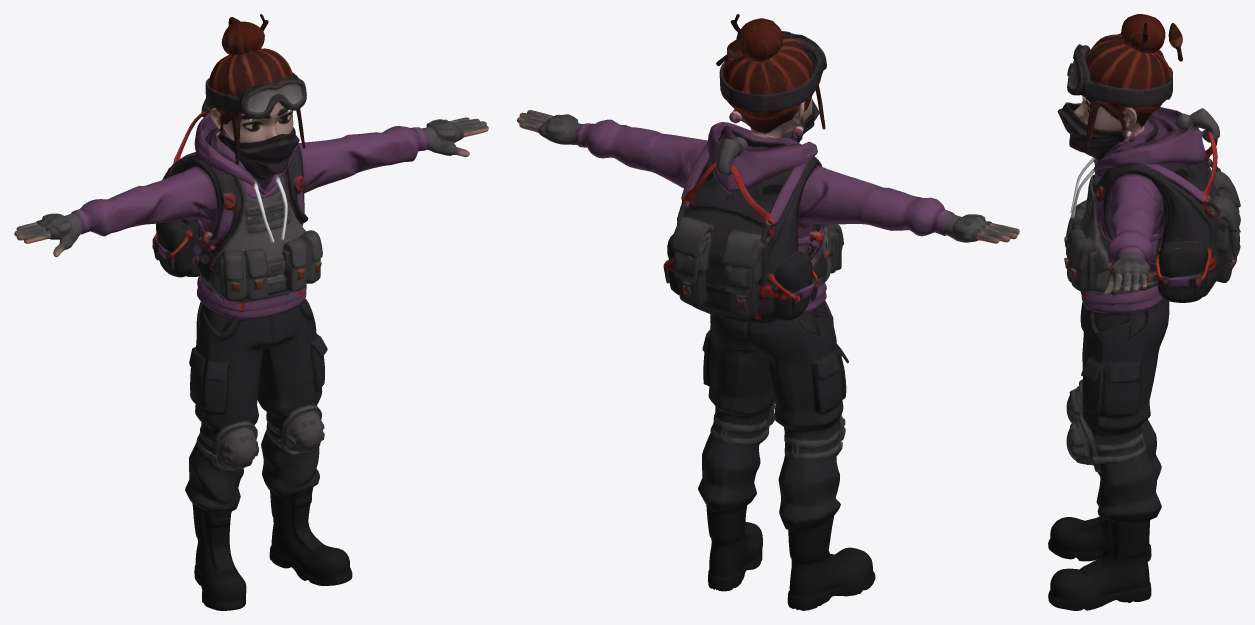
The model's file is lynx.glb.
3 views of the same model, side by side, from view 1: azimuth 30°, elevation 25°; view 2: azimuth 150°, elevation 25°; view 3: azimuth 270°, elevation 25° (orthographic). The views are drawn at different scales.
Visible parts, largest first — view 1: world; view 2: world; view 3: world.
Boxes of the visible parts, x1,y1,x2,y2 form: world: (14, 14, 488, 610); world: (517, 14, 1019, 610); world: (1048, 14, 1240, 610).
Size of the model in its own units: 0.8987 by 1 by 0.3103.
Materials: 1 (1 with a texture image).
